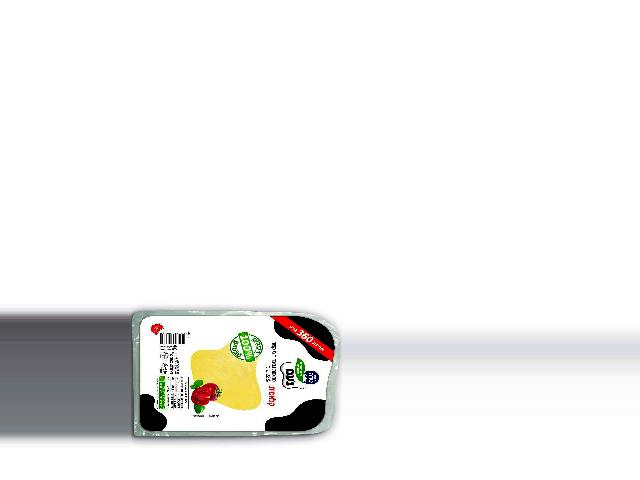cheese: (132, 310, 341, 436)
